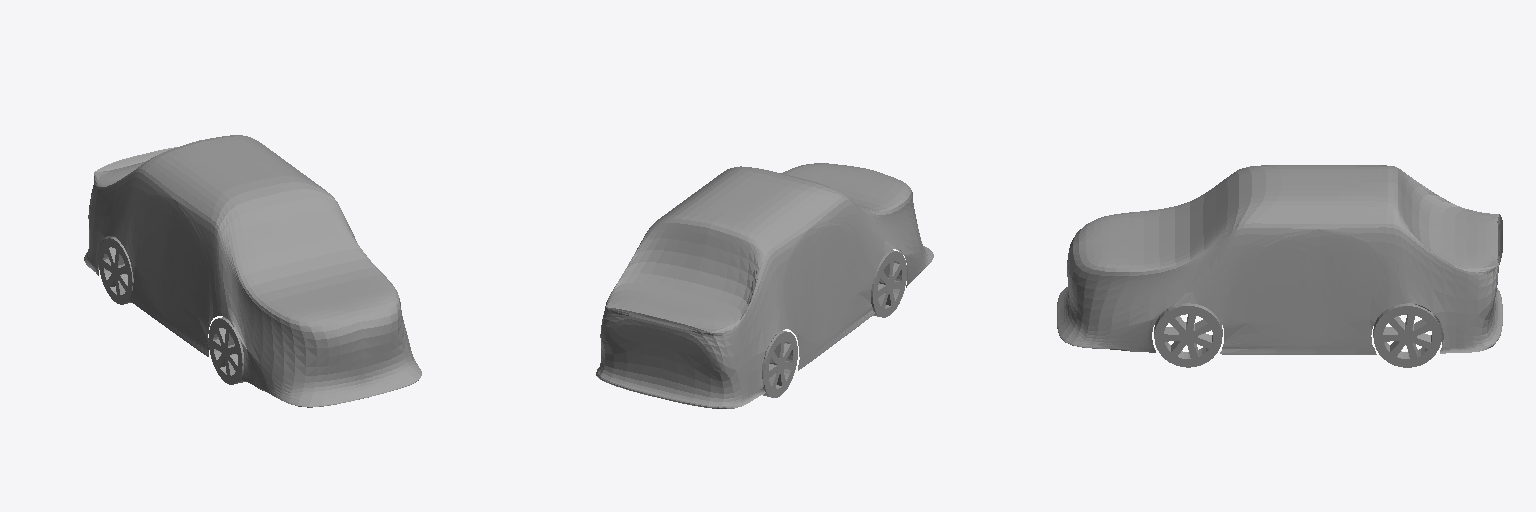
The model's file is car2.obj.
3 renders of one model, left to right at view 1: azimuth 30°, elevation 25°; view 2: azimuth 150°, elevation 25°; view 3: azimuth 270°, elevation 25°, orthographic.
Parts seen in each view (by area): view 1: Body_Cube, WheelFR_Cylinder.001, WheelRR_Cylinder.003; view 2: Body_Cube, WheelFR_Cylinder.001, WheelRR_Cylinder.003; view 3: Body_Cube, WheelFL_Cylinder, WheelRL_Cylinder.002.
Part boxes in pixels (bbox=[...]): Body_Cube: bbox=[84, 135, 421, 407]; WheelFR_Cylinder.001: bbox=[208, 317, 245, 384]; WheelRR_Cylinder.003: bbox=[99, 237, 133, 304]; Body_Cube: bbox=[596, 163, 933, 408]; WheelFR_Cylinder.001: bbox=[871, 250, 906, 317]; WheelRR_Cylinder.003: bbox=[762, 330, 797, 397]; Body_Cube: bbox=[1057, 165, 1502, 354]; WheelFL_Cylinder: bbox=[1154, 303, 1222, 367]; WheelRL_Cylinder.002: bbox=[1373, 303, 1441, 367].
Size of the model in its own units: 1.89 by 1.72 by 4.67.